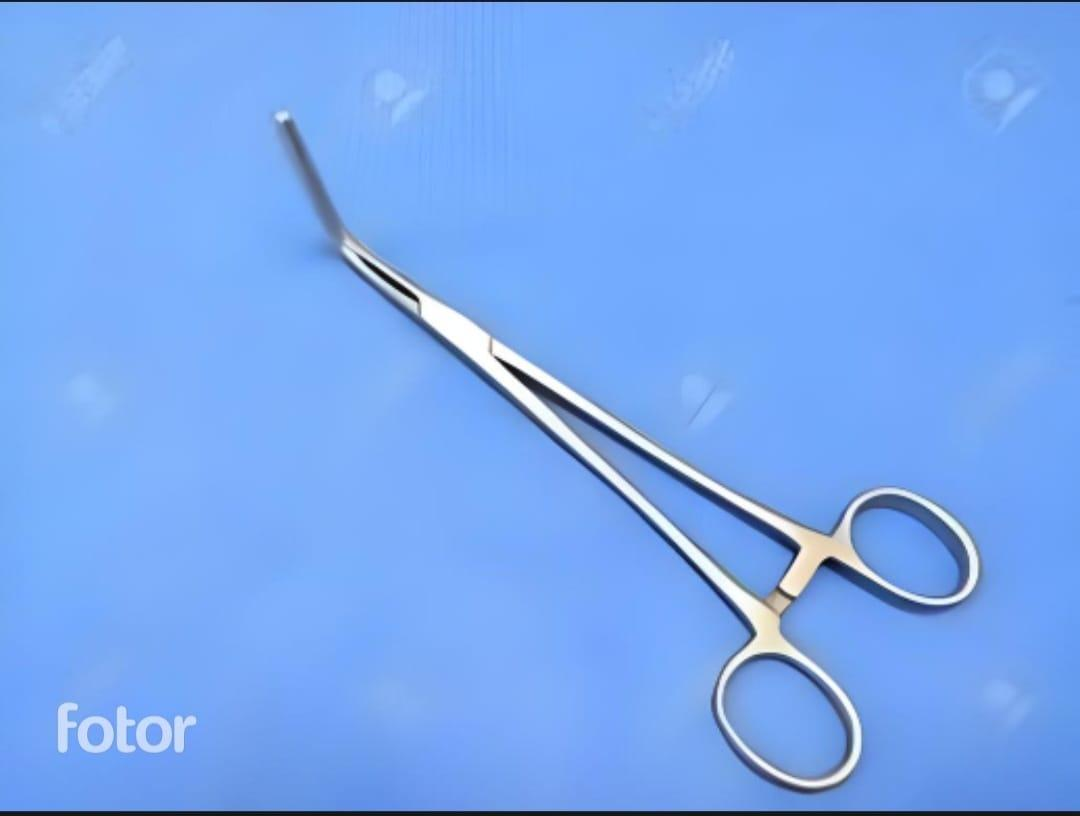Rectangle Cholecystectomy Forceps: (265, 103, 984, 798)
